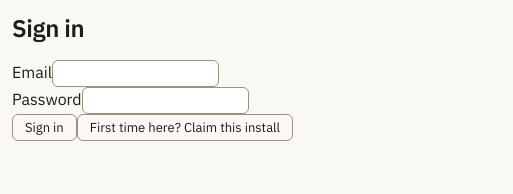
it: a refused sign-in shows why, and the form stays usable
Type "owner@example.invalid" into the field labelled "Email" at (136, 74), box left=52, top=60, right=219, bottom=87
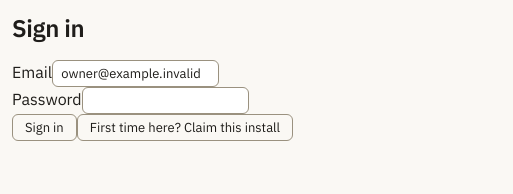
Type "wrong password" into the password field labelled "Password" at (165, 100), box left=82, top=87, right=249, bottom=114
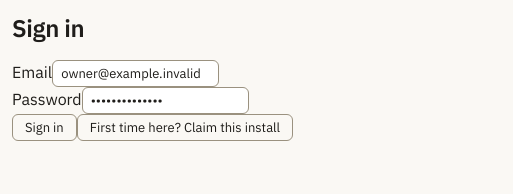
Click the button "Sign in" at (44, 128), box left=12, top=114, right=77, bottom=141
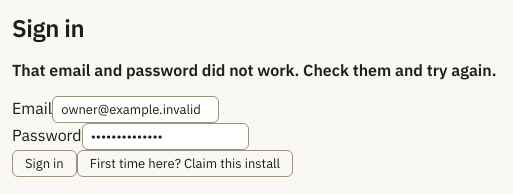
Result: the heading "That email and password did not work. Check them and try again." is shown at left=12, top=60, right=496, bottom=80
